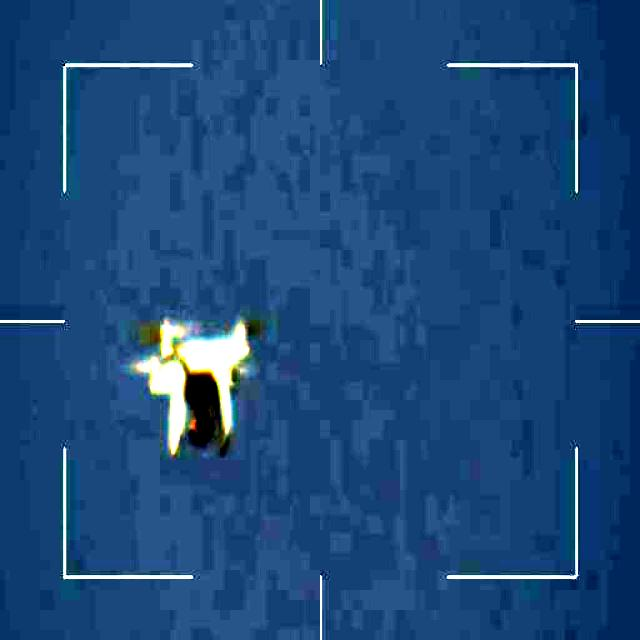bird: (129, 320, 265, 456)
